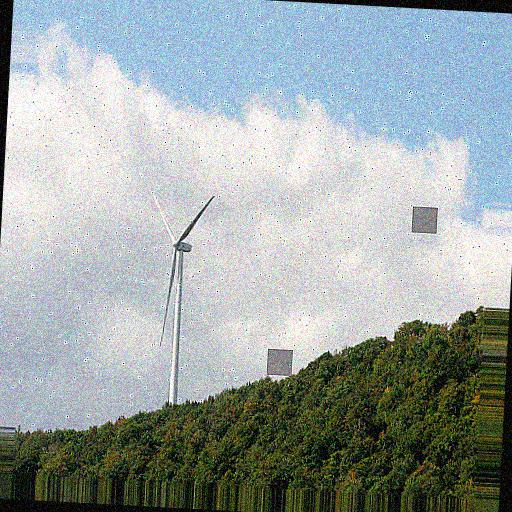wind turbine: (151, 194, 217, 404)
